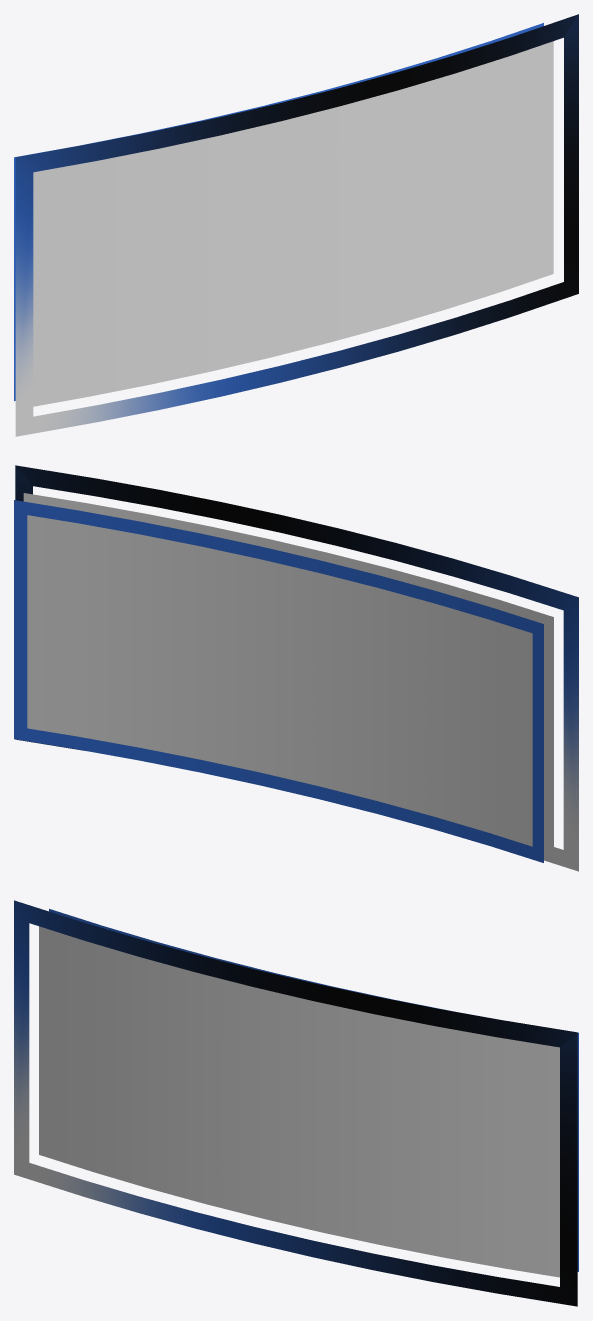
Rendered from ___button_9x3.fbx.
3 renders of one model, top to bottom at view 1: azimuth 30°, elevation 25°; view 2: azimuth 150°, elevation 25°; view 3: azimuth 330°, elevation 25°, orthographic.
Visible parts, largest first — view 1: ___button_9x3, ___glow, ___frame; view 2: ___button_9x3, ___frame, ___glow; view 3: ___button_9x3, ___glow, ___frame.
Part boxes in pixels (bbox=[...]): ___button_9x3: bbox=[33, 41, 553, 406]; ___glow: bbox=[15, 14, 578, 436]; ___frame: bbox=[14, 23, 543, 401]; ___button_9x3: bbox=[23, 493, 553, 855]; ___frame: bbox=[14, 500, 543, 862]; ___glow: bbox=[15, 465, 578, 871]; ___button_9x3: bbox=[39, 926, 559, 1277]; ___glow: bbox=[14, 900, 577, 1306]; ___frame: bbox=[49, 909, 578, 1271].
Size of the model in its own units: 16.63 by 7.81 by 1.76.
